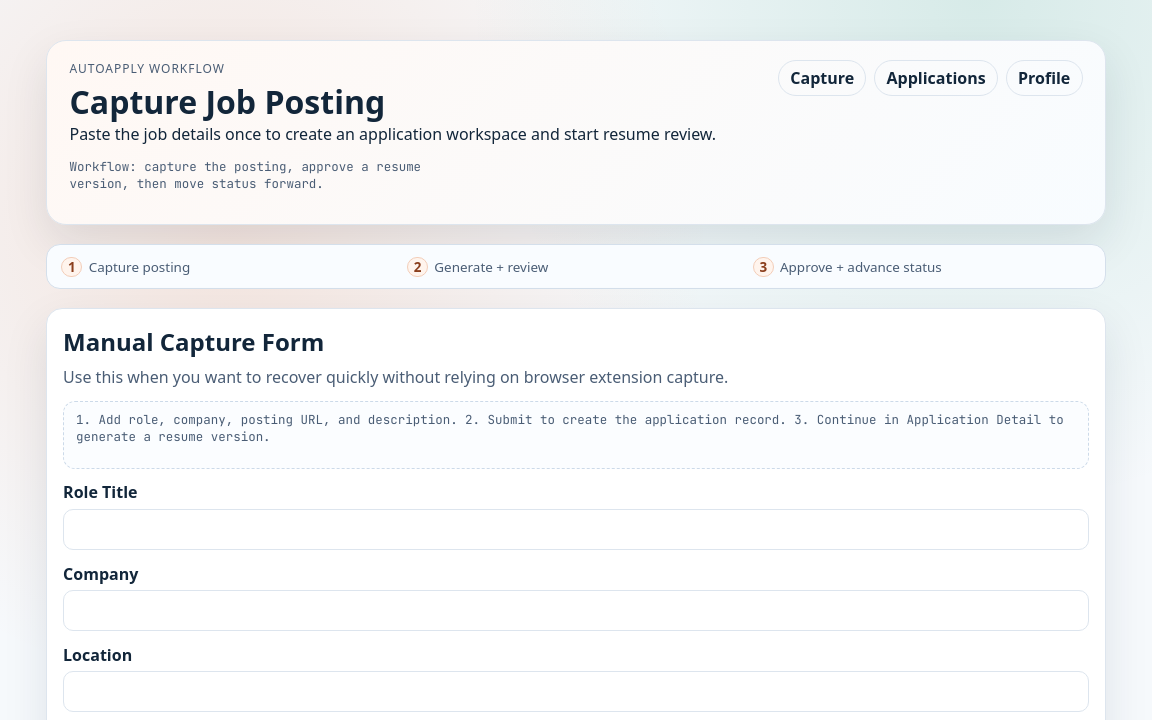
Test: CapturePage › surfaces field-level recovery guidance for structured capture validation errors
Type "Backend Engineer" into the field labelled "Role Title" at (576, 529), box [63,509,1089,550]
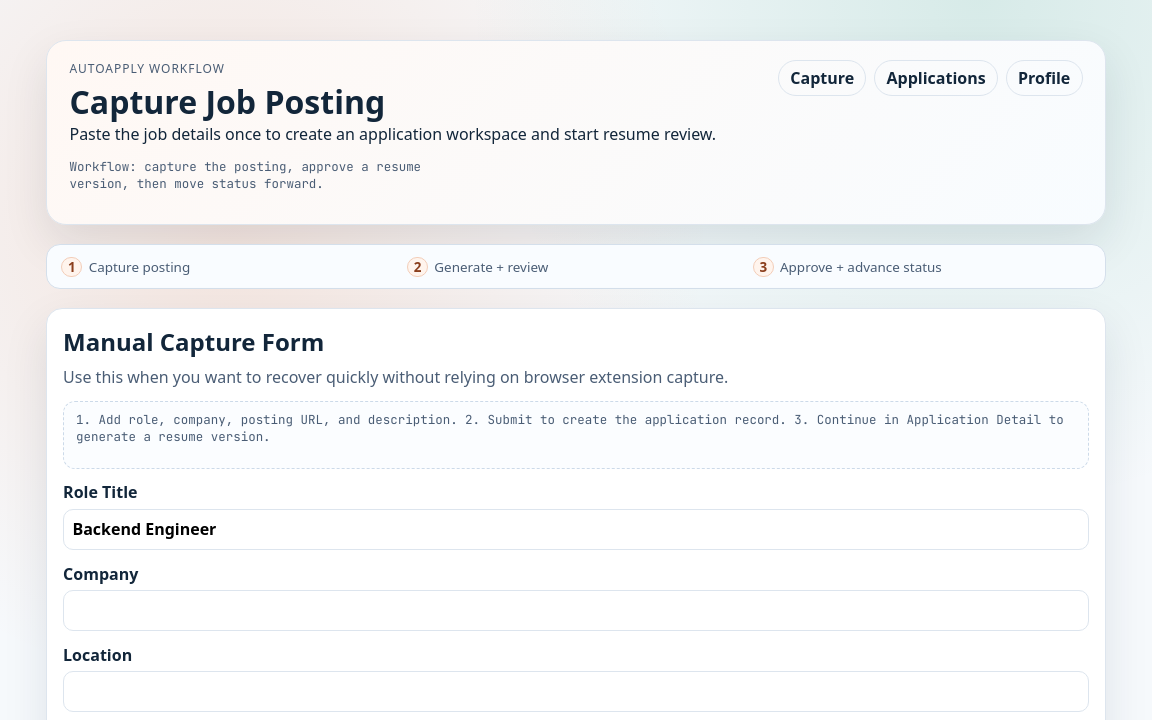
Type "Acme" into the field labelled "Company" at (576, 610), box [63,590,1089,631]
(page scrolled)
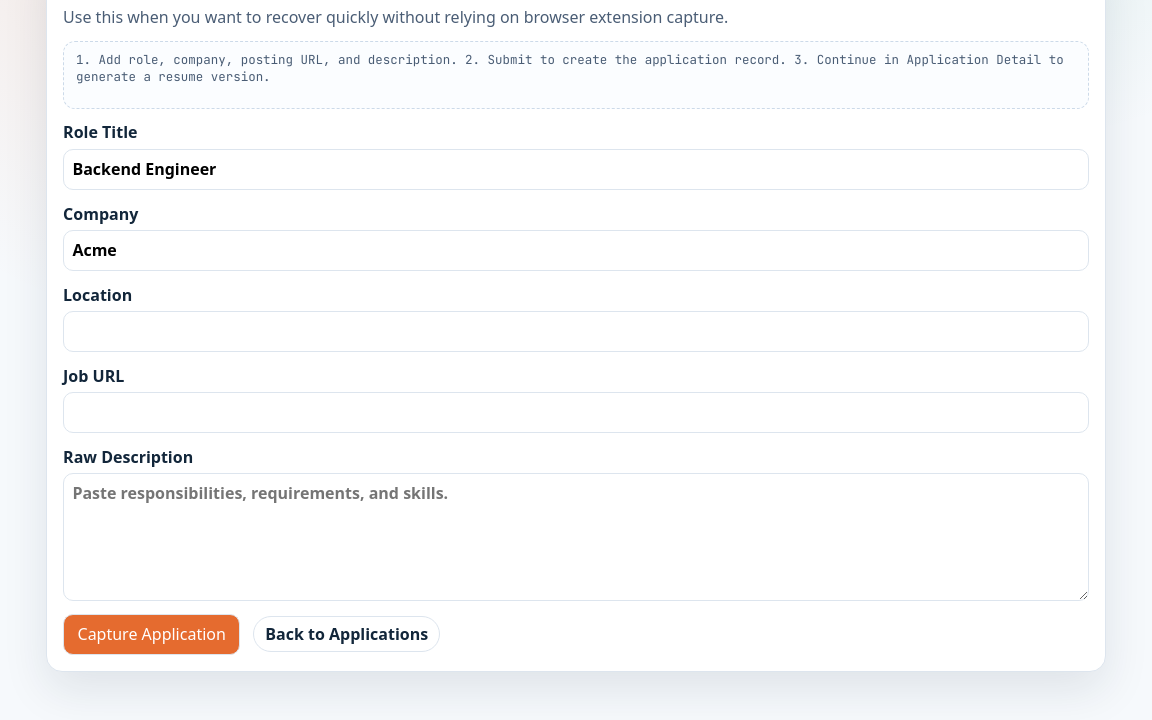
Type "https://example.com/jobs/1" into the field labelled "Job URL" at (576, 412), box [63,392,1089,433]
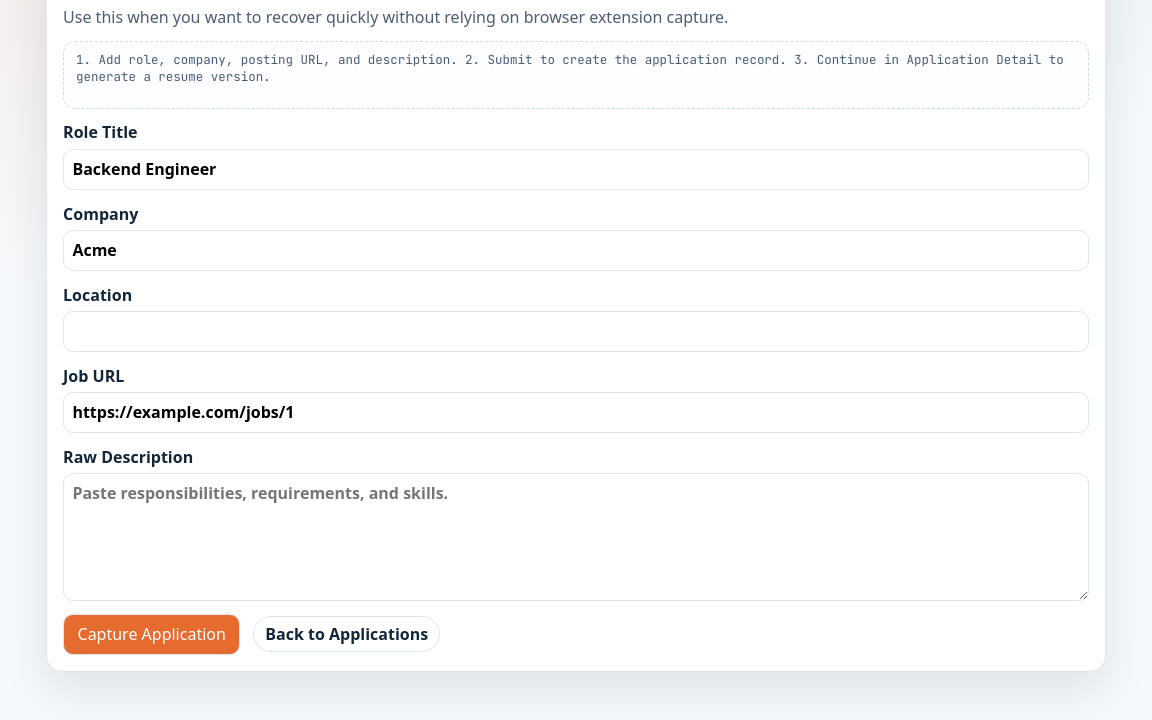
Type "Build APIs and services." into the text box labelled "Raw Description" at (576, 537), box [63,473,1089,601]
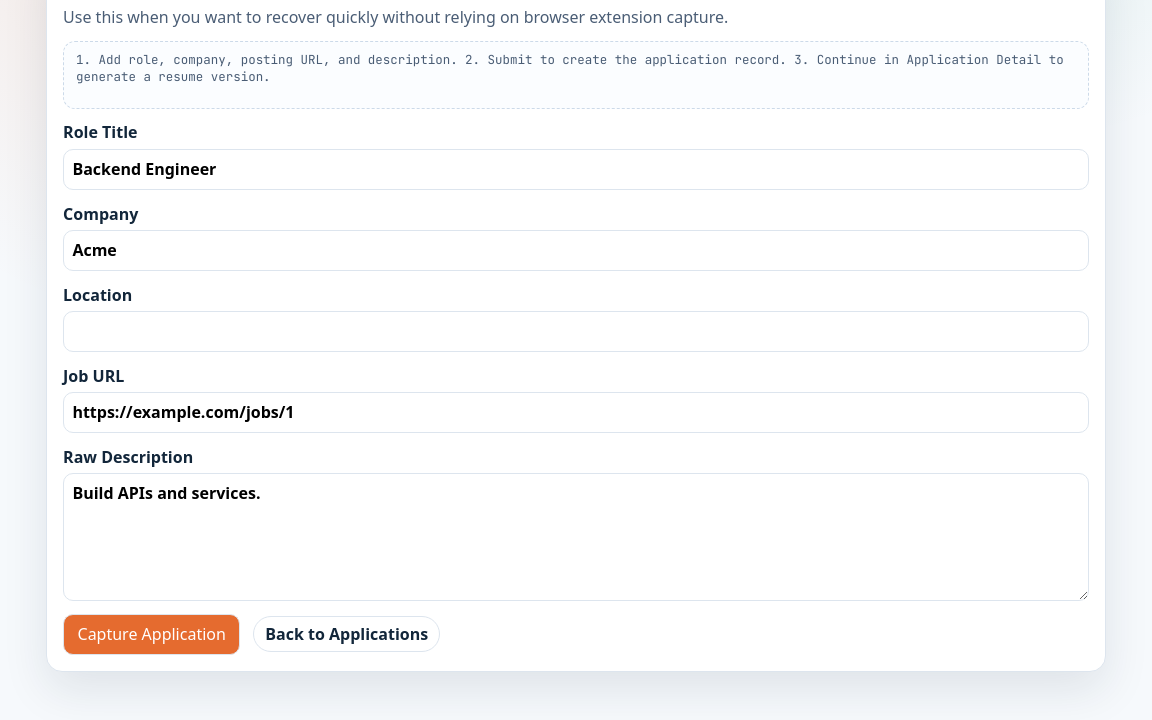
Click the button "Capture Application" at (152, 634), box [63,614,240,654]
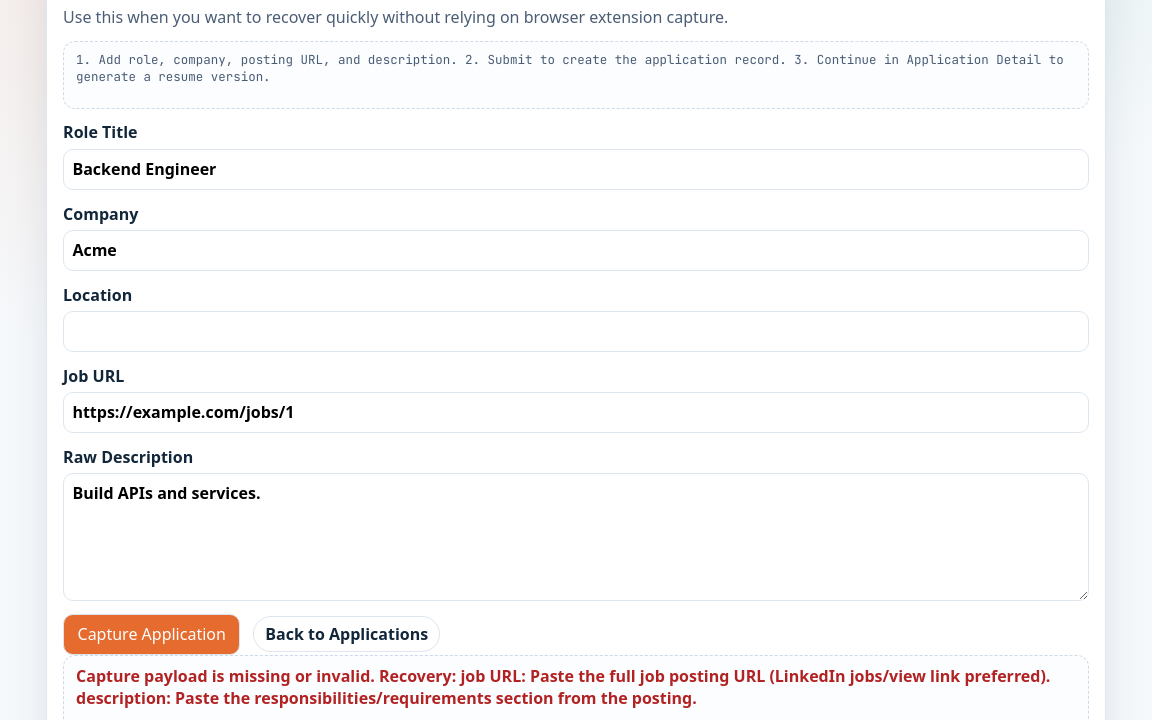
Now the text "description: paste the responsibilities/requirements" is shown, box [76,665,1050,709]
